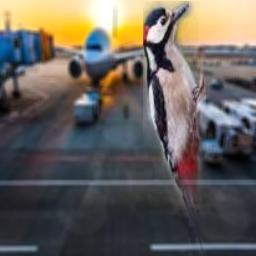Woodpecker: (143, 1, 206, 256)
